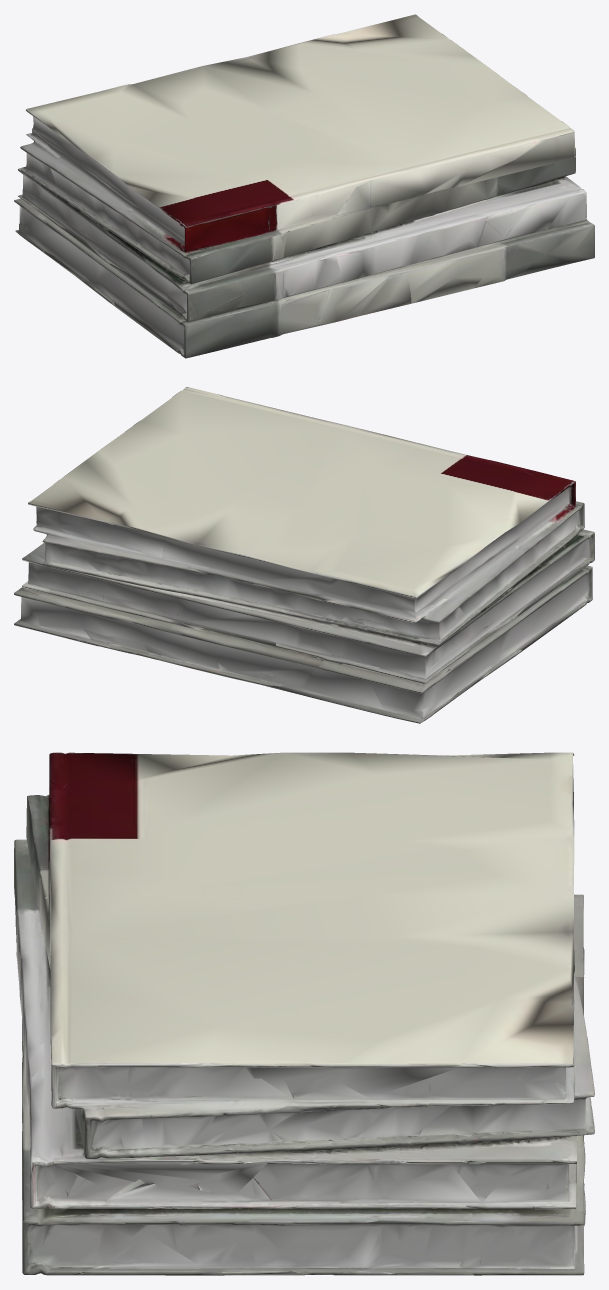
Rendered from journals.glb.
3 renders of one model, top to bottom at view 1: azimuth 30°, elevation 25°; view 2: azimuth 150°, elevation 25°; view 3: azimuth 270°, elevation 25°, orthographic. The views are drawn at different scales.
Visible parts, largest first — view 1: Mesh_0; view 2: Mesh_0; view 3: Mesh_0.
Part boxes in pixels (box(x1,y1,x2,y2)): Mesh_0: box(14, 14, 594, 358); Mesh_0: box(14, 387, 594, 723); Mesh_0: box(14, 752, 594, 1275).
Size of the model in its own units: 1.9 by 0.5478 by 1.41.
Materials: 1 (1 with a texture image).
